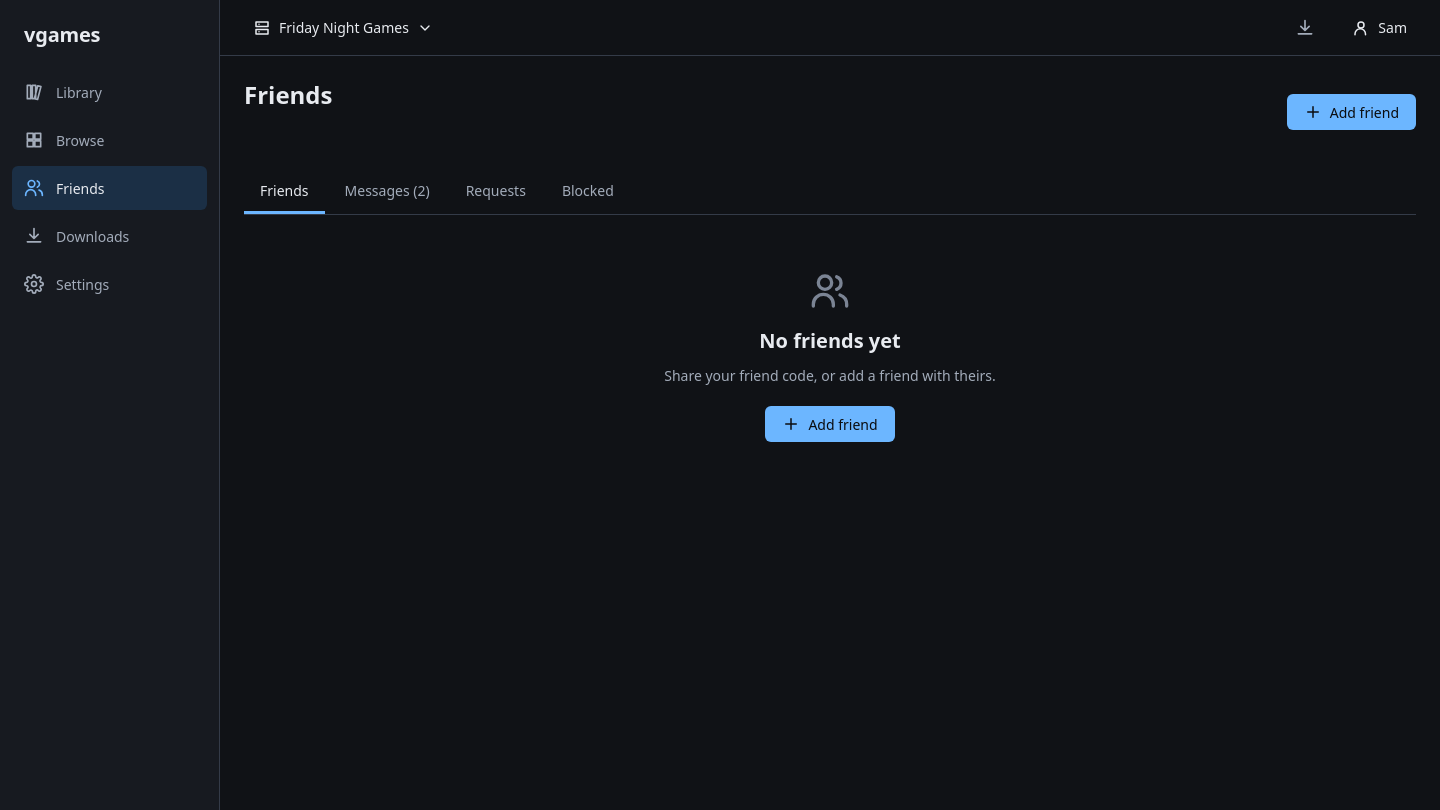
it: friends list › shows the empty state with Add friend
The image size is (1440, 810).
Expected: the heading "No friends yet" is shown, left=759, top=328, right=901, bottom=353
What coordinates should you click on to do the following:
click the button "Add friend" below "No friends yet"
I would click on:
 (830, 424)
Its box is left=765, top=406, right=895, bottom=442.
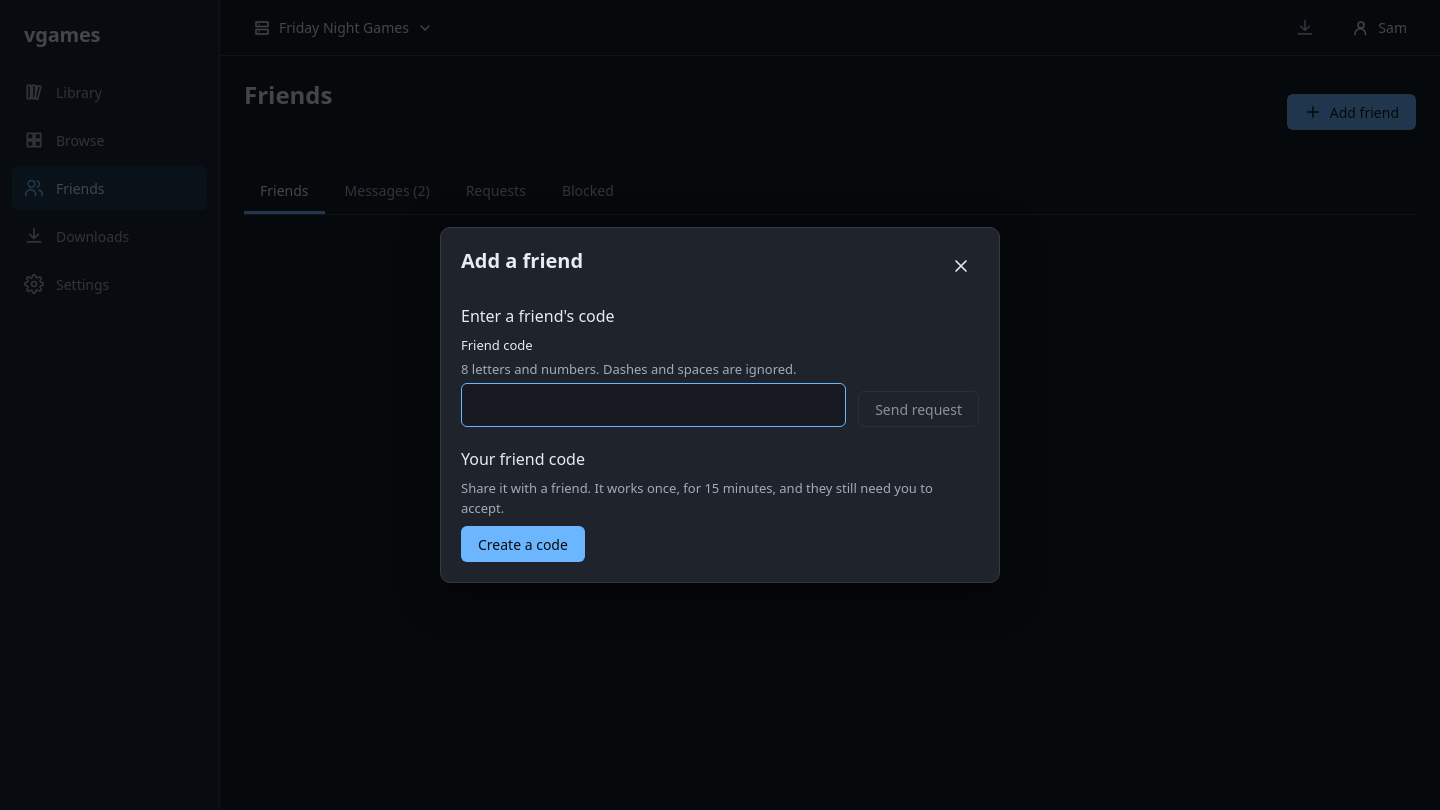
Expected: the dialog "Add a friend" is shown, left=440, top=227, right=1000, bottom=583
